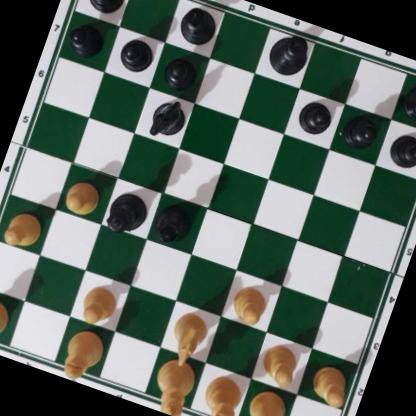black-bishop: (149, 198, 197, 248), (175, 0, 223, 48)
black-king: (262, 27, 315, 81)
black-knight: (145, 93, 189, 141)
black-pawn: (65, 17, 108, 59), (295, 94, 337, 137), (341, 110, 382, 152), (115, 33, 156, 75), (160, 50, 201, 92), (386, 127, 416, 173)
black-queen: (100, 186, 152, 240)
black-rook: (73, 0, 131, 17), (400, 71, 416, 128)
white-bishop: (58, 325, 110, 386), (193, 370, 248, 416)
white-king: (146, 352, 203, 416)
white-knight: (163, 307, 212, 369)
white-pawn: (256, 338, 305, 387), (307, 359, 354, 407), (59, 173, 106, 220), (77, 280, 122, 328), (0, 206, 46, 252), (227, 281, 272, 328)
white-rook: (238, 389, 297, 416), (0, 288, 14, 353)
